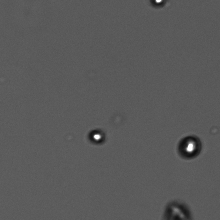Dead Cell: (161, 198, 191, 220)
Living Cell: (172, 131, 208, 164), (84, 125, 110, 147), (146, 1, 172, 10)
